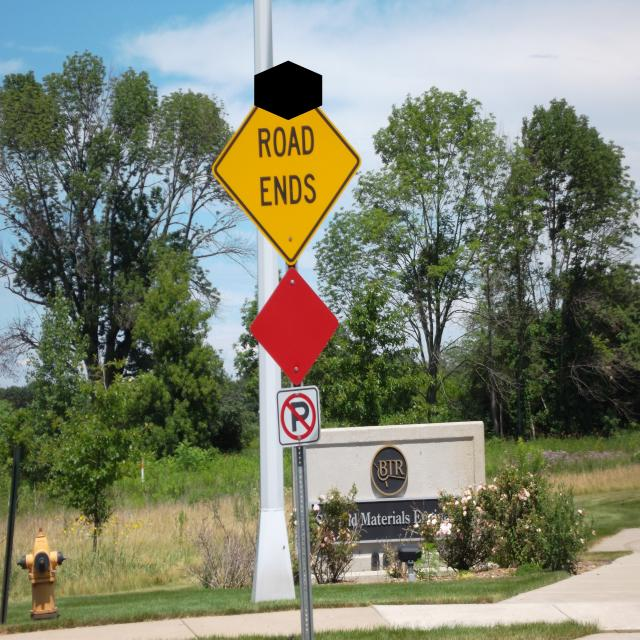regulatory: (274, 384, 323, 450)
warning: (212, 78, 363, 264)
